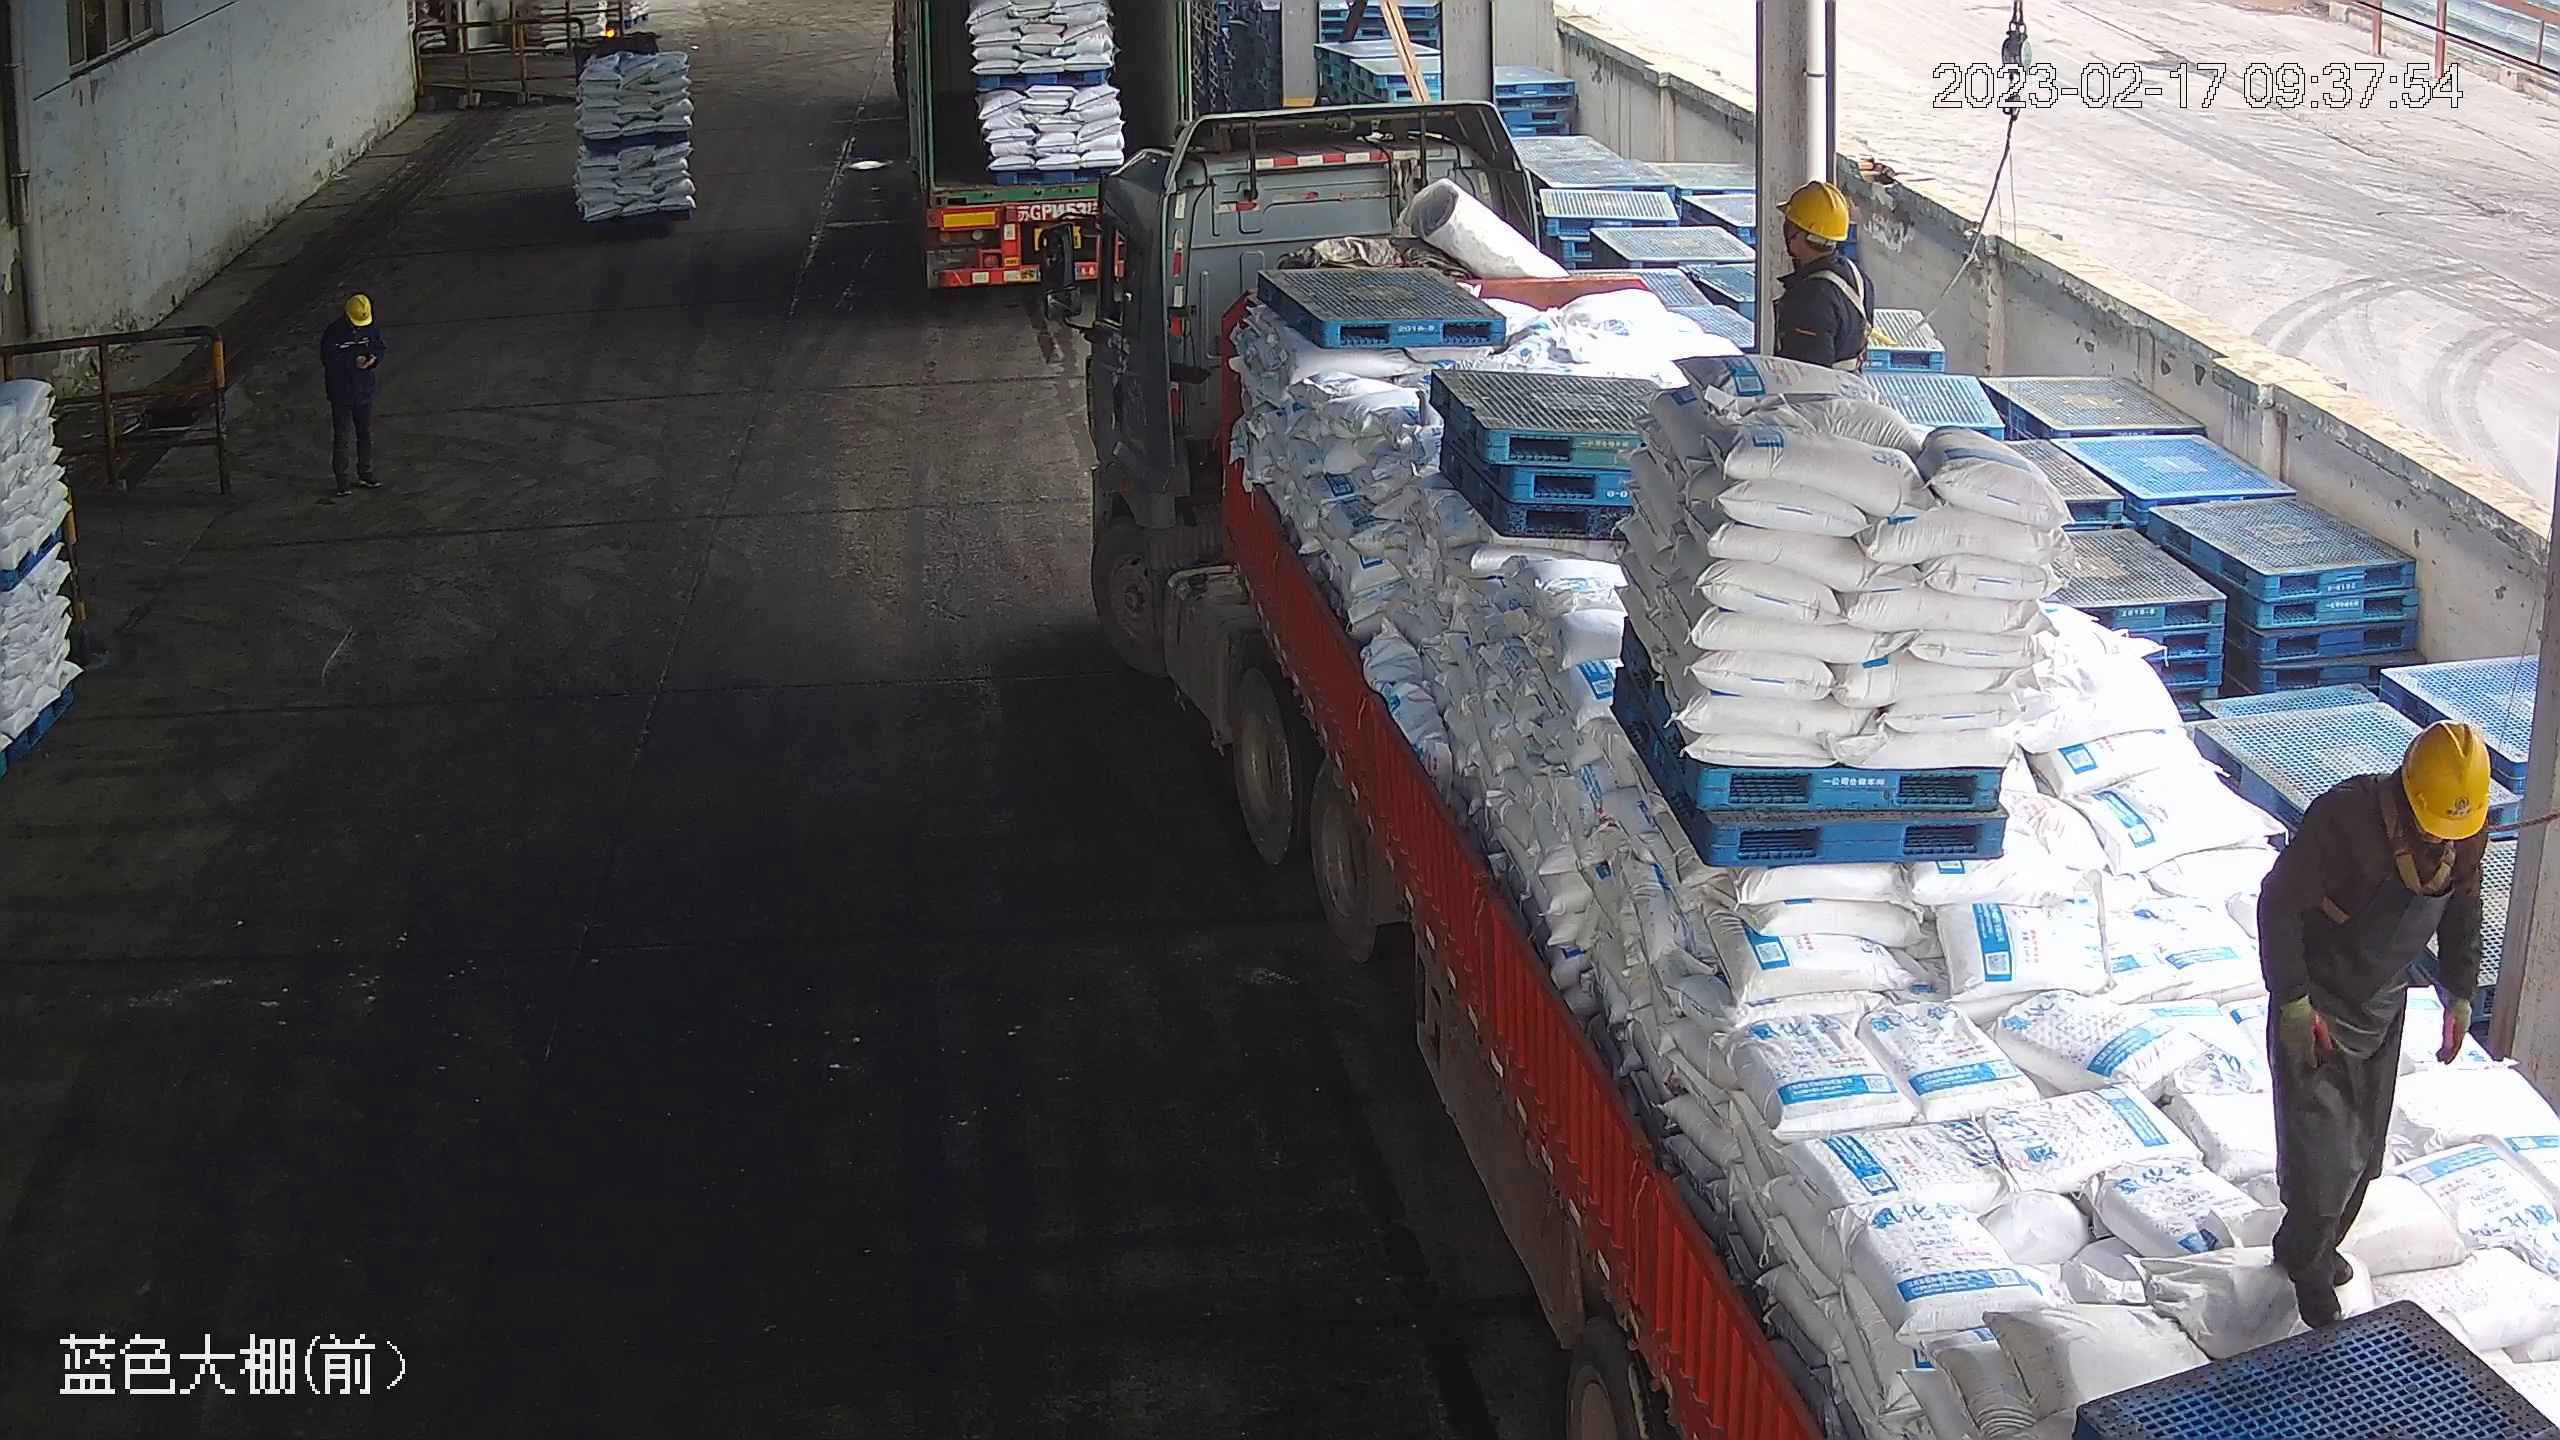belt: (2367, 786, 2471, 898), (1798, 259, 1868, 339)
head: (2297, 715, 2499, 886), (1767, 178, 1873, 337), (319, 291, 385, 350)
helmet: (2399, 712, 2496, 838), (1778, 178, 1854, 244), (343, 291, 375, 324)
people: (2253, 709, 2504, 1331), (318, 291, 387, 494)
truck: (1036, 100, 2551, 1440), (887, 1, 1191, 293)
